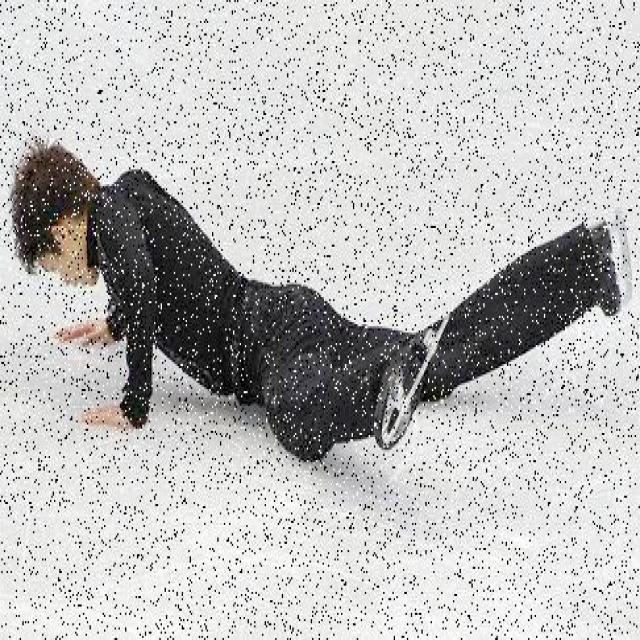fall: (12, 134, 619, 439)
